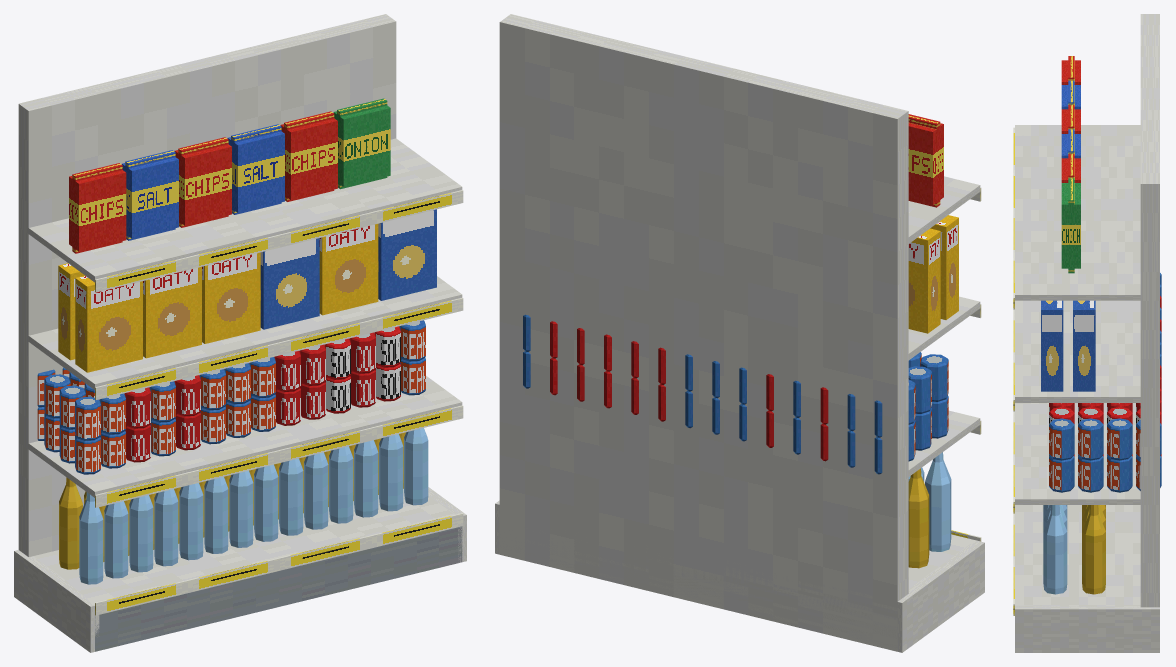
Rendered from PSX_ShelvesPropsNormalItemsStoreShelf.glb.
3 renders of one model, left to right at view 1: azimuth 30°, elevation 25°; view 2: azimuth 150°, elevation 25°; view 3: azimuth 270°, elevation 25°, orthographic. The views are drawn at different scales.
Visible parts, largest first — view 1: StoreShelf; view 2: StoreShelf; view 3: StoreShelf.
Boxes of the visible parts, left/top/right/bottom form: StoreShelf: left=14, top=14, right=466, bottom=652; StoreShelf: left=495, top=14, right=984, bottom=652; StoreShelf: left=1013, top=14, right=1161, bottom=652.
Size of the model in its own units: 1.28 by 1.6 by 0.4605.
14 materials, 14 textured.
